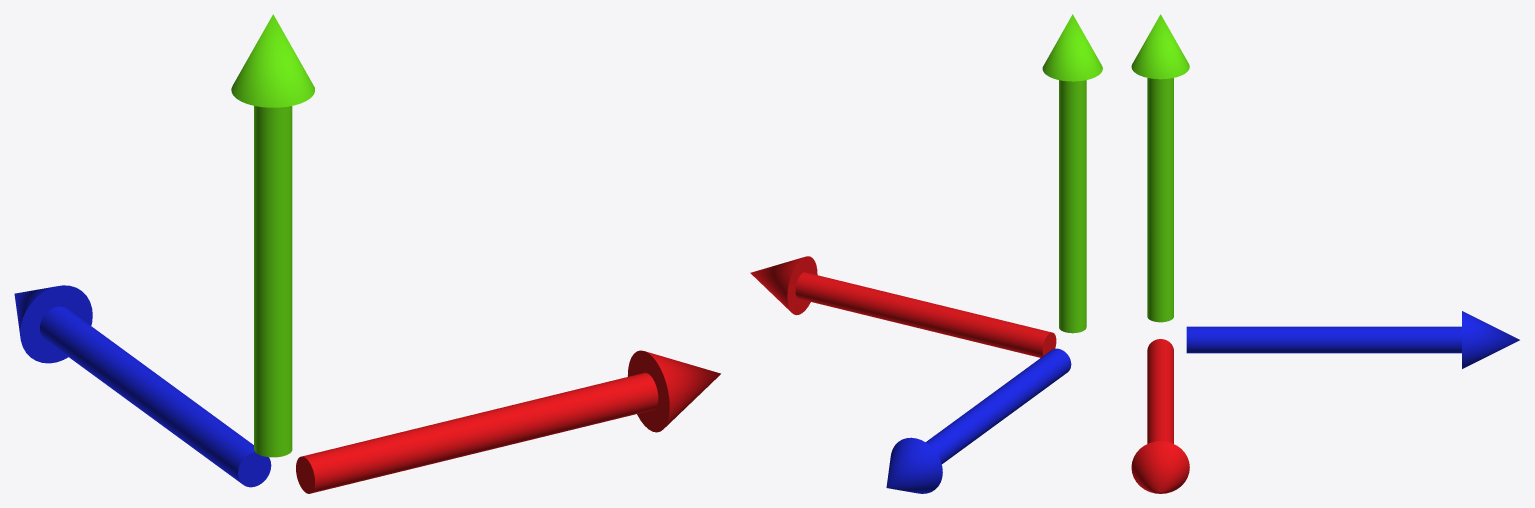
Rendered from EjesUnity.fbx.
3 views of the same model, side by side, from view 1: azimuth 30°, elevation 25°; view 2: azimuth 150°, elevation 25°; view 3: azimuth 270°, elevation 25° (orthographic). The views are drawn at different scales.
Parts seen in each view (by area): view 1: Y, X, Z; view 2: Y, X, Z; view 3: Z, Y, X.
Part boxes in pixels (<box>): Y: <box>231,14,314,457</box>; X: <box>296,350,720,493</box>; Z: <box>14,285,271,487</box>; Y: <box>1042,14,1102,333</box>; X: <box>750,256,1056,357</box>; Z: <box>886,348,1071,493</box>; Z: <box>1186,311,1519,368</box>; Y: <box>1131,14,1189,322</box>; X: <box>1131,339,1189,493</box>.
Size of the model in its own units: 104 by 104 by 104.
